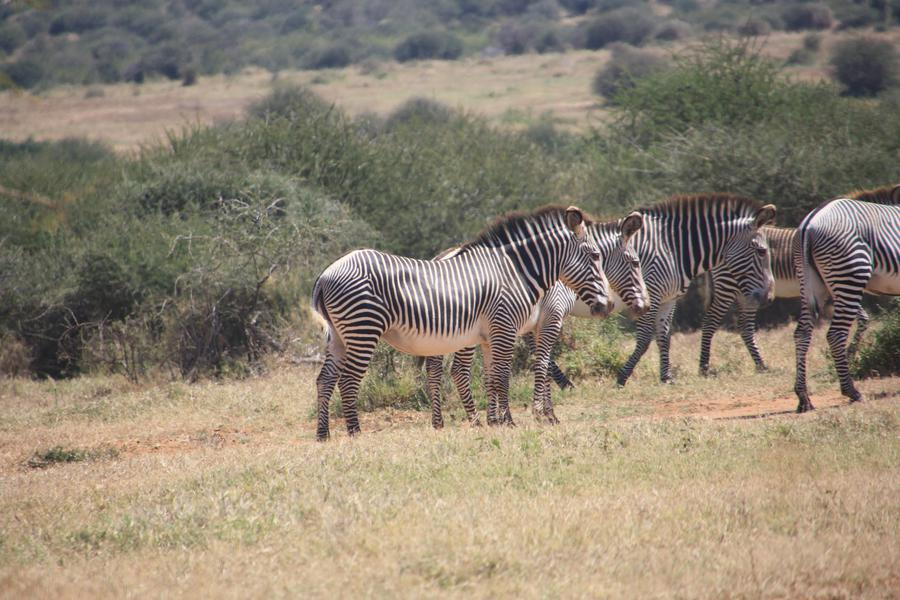zebra_grevys: (313, 250, 516, 343)
